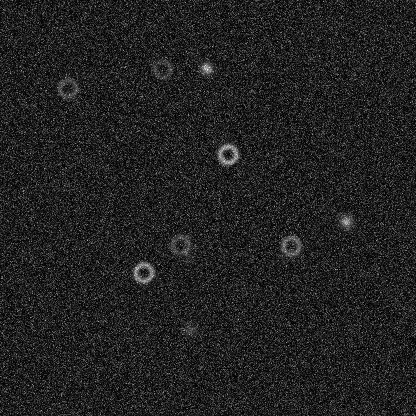Ring: (55, 76, 79, 100), (131, 260, 155, 284), (150, 56, 174, 80), (168, 232, 192, 256), (215, 142, 239, 166), (278, 233, 302, 257)
Spot: (198, 60, 214, 76), (180, 249, 196, 265), (337, 213, 353, 229), (182, 322, 198, 338)
